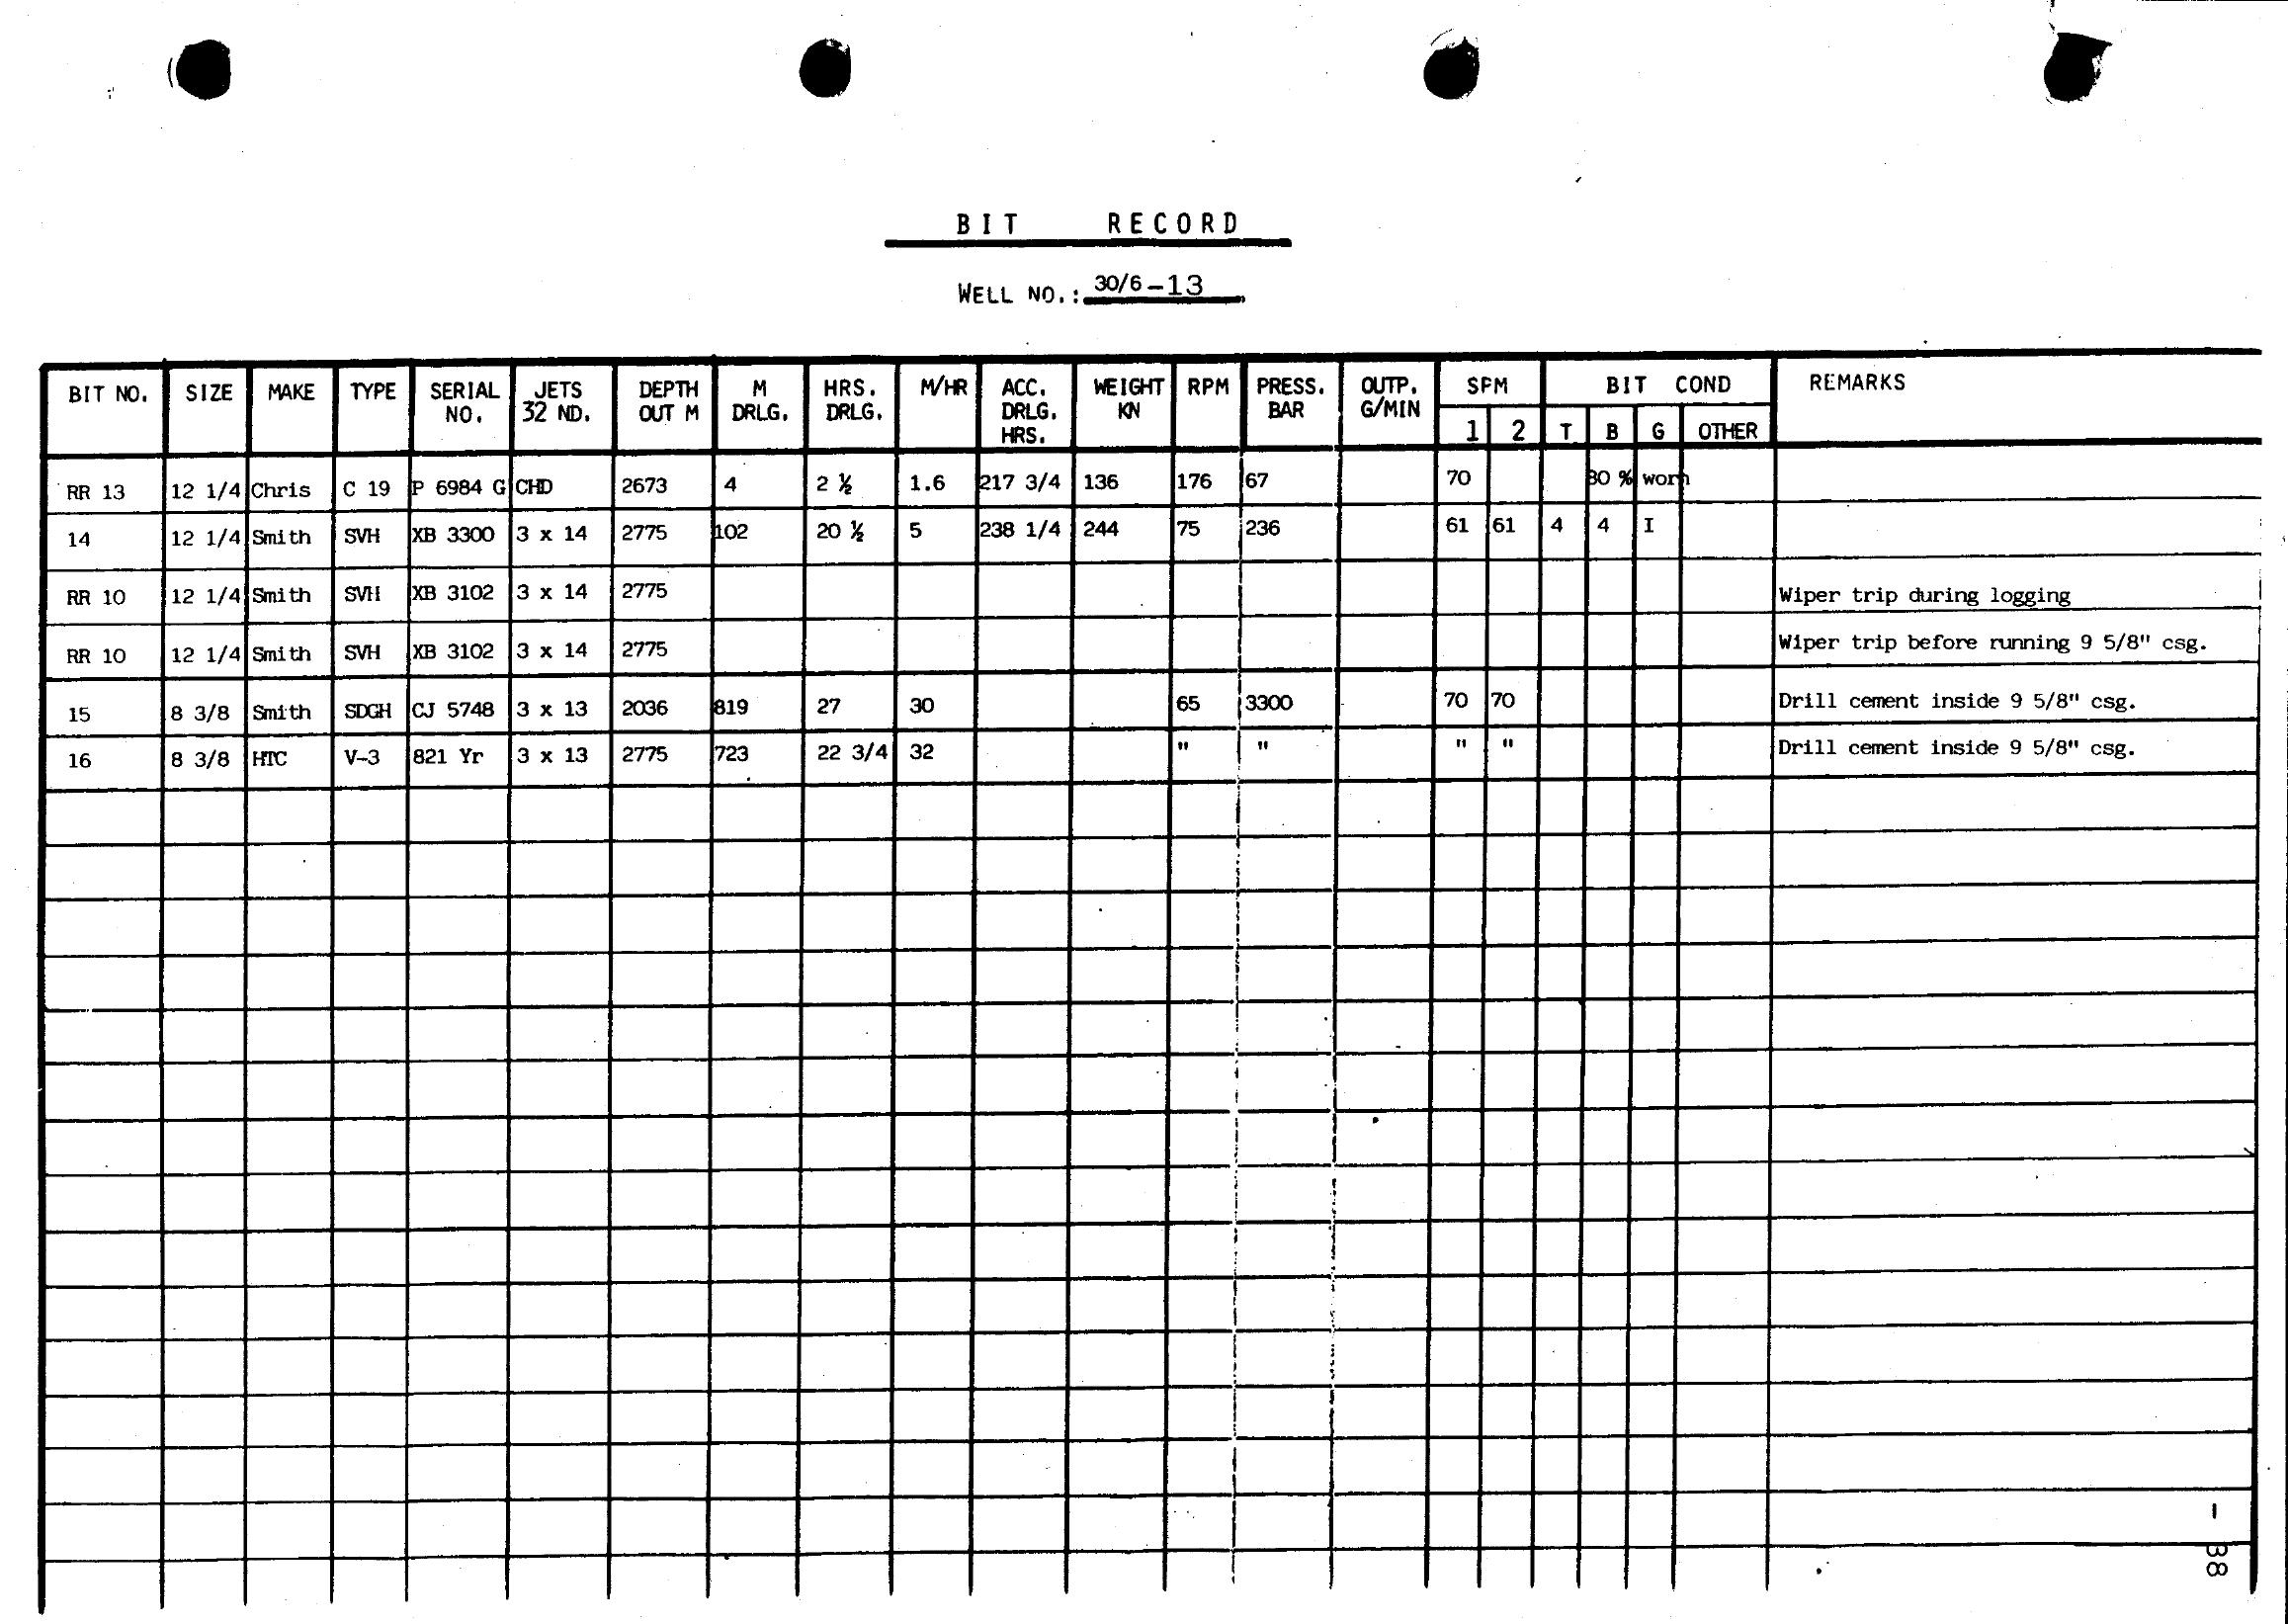table: (23, 352, 2239, 796)
